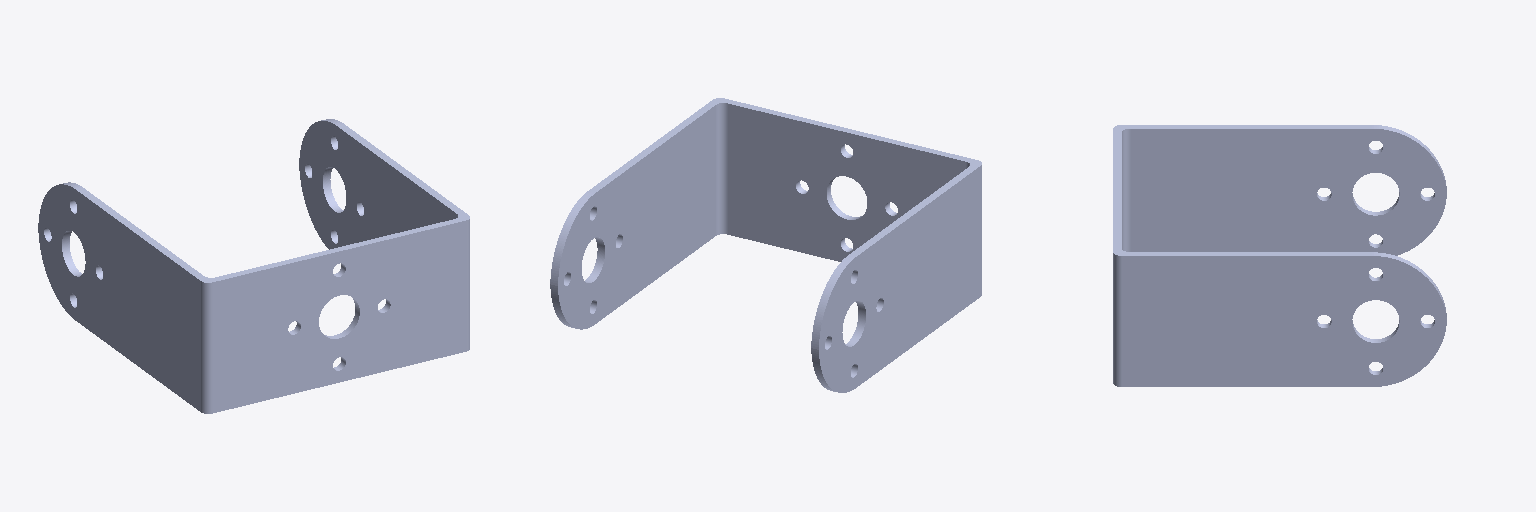
File: sujetador_eje_grande.obj
3 renders of one model, left to right at view 1: azimuth 30°, elevation 25°; view 2: azimuth 150°, elevation 25°; view 3: azimuth 270°, elevation 25°, orthographic.
Visible parts, largest first — view 1: Cut_Extrude6; view 2: Cut_Extrude6; view 3: Cut_Extrude6.
Part boxes in pixels (bbox=[...]): Cut_Extrude6: bbox=[38, 119, 469, 413]; Cut_Extrude6: bbox=[550, 98, 981, 392]; Cut_Extrude6: bbox=[1113, 125, 1446, 386].
Size of the model in its own units: 20.67 by 9.65 by 22.24.